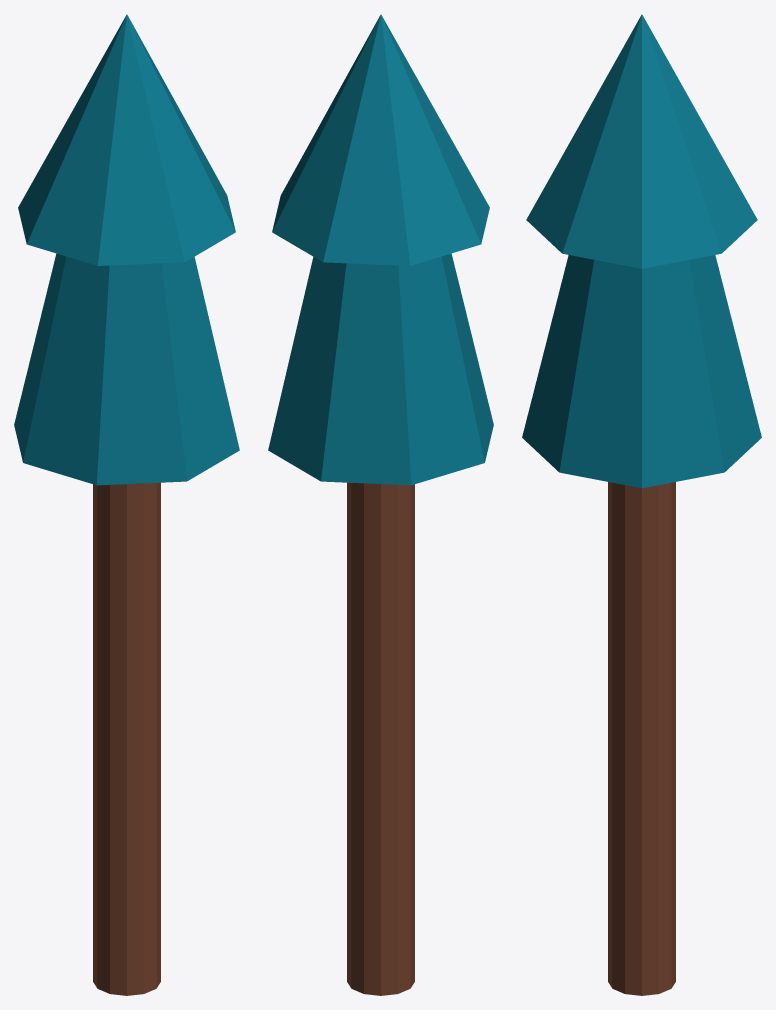
File: Tree_21_summer_blue_vc.fbx
The picture shows the model from 3 angles, left to right: view 1: azimuth 30°, elevation 25°; view 2: azimuth 150°, elevation 25°; view 3: azimuth 270°, elevation 25°; orthographic projection.
Parts seen in each view (by area): view 1: Tree_21_summer_blue_vc; view 2: Tree_21_summer_blue_vc; view 3: Tree_21_summer_blue_vc.
Part boxes in pixels (box(x1,y1,x2,y2)): Tree_21_summer_blue_vc: box(14, 14, 239, 995); Tree_21_summer_blue_vc: box(268, 14, 493, 995); Tree_21_summer_blue_vc: box(522, 14, 761, 995).
Size of the model in its own units: 77.92 by 347 by 77.92.
